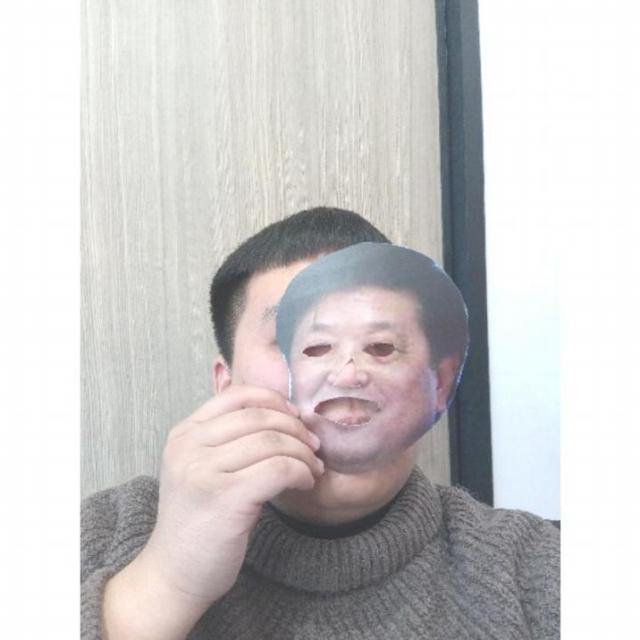mask: (274, 242, 471, 463)
